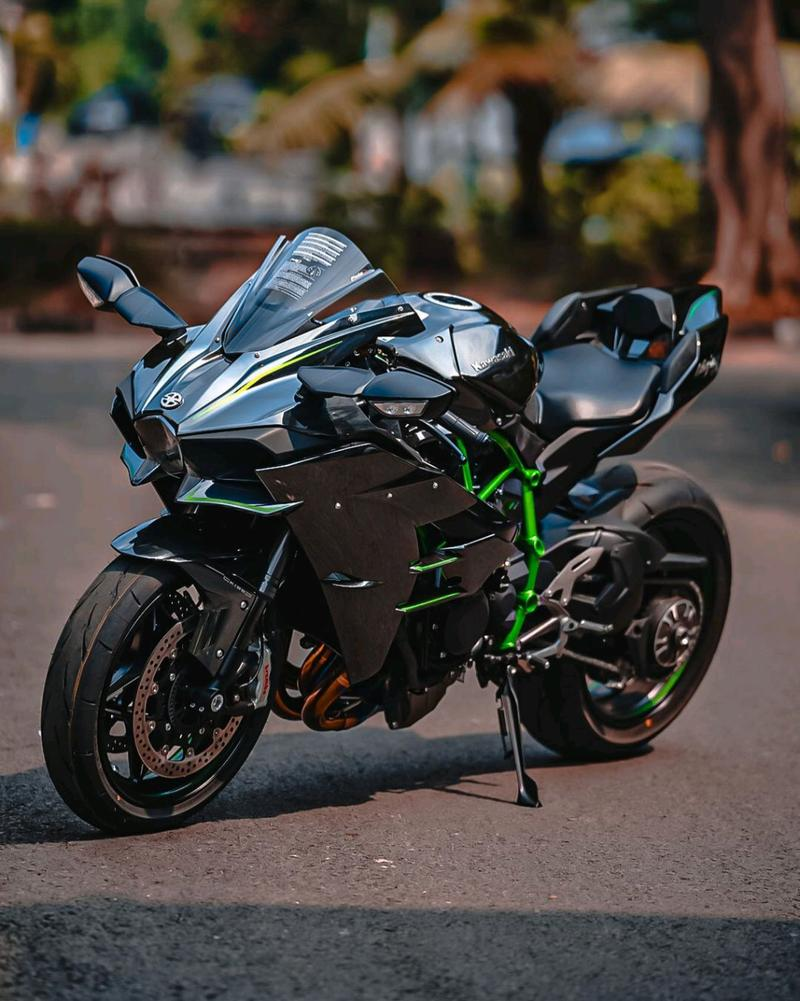摩托车: (39, 216, 748, 820)
